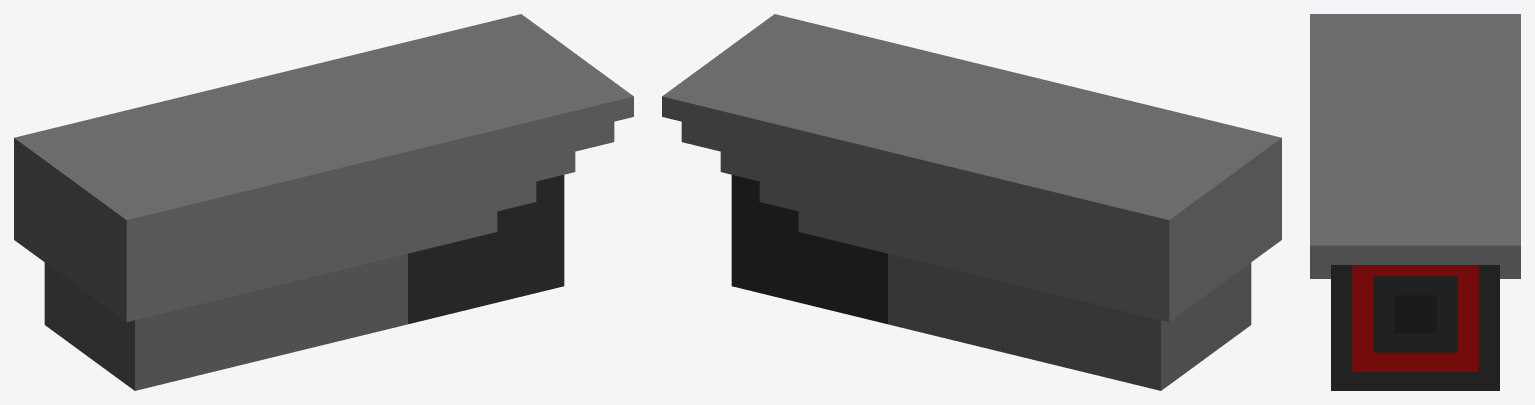
Rendered from camera.obj.
The picture shows the model from 3 angles, left to right: view 1: azimuth 30°, elevation 25°; view 2: azimuth 150°, elevation 25°; view 3: azimuth 270°, elevation 25°; orthographic projection. The views are drawn at different scales.
Bounding box in the file's own units: 2.6 × 0.9 × 1.
1 material, 1 textured.
